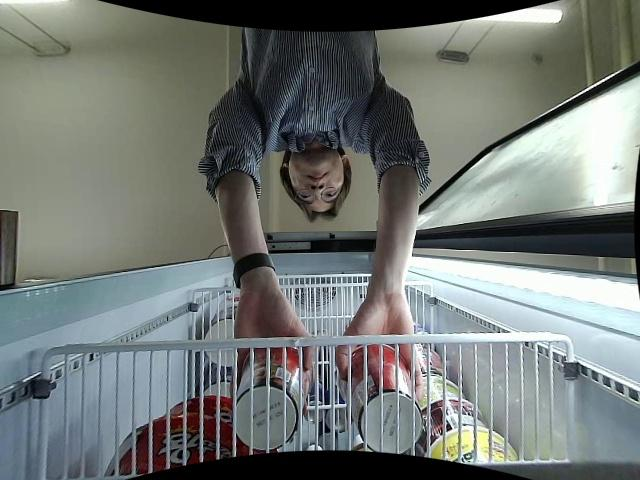00_hand: (334, 298, 424, 401), (235, 290, 317, 371)
02_shinRamen_S: (334, 344, 422, 454), (235, 344, 307, 449)
